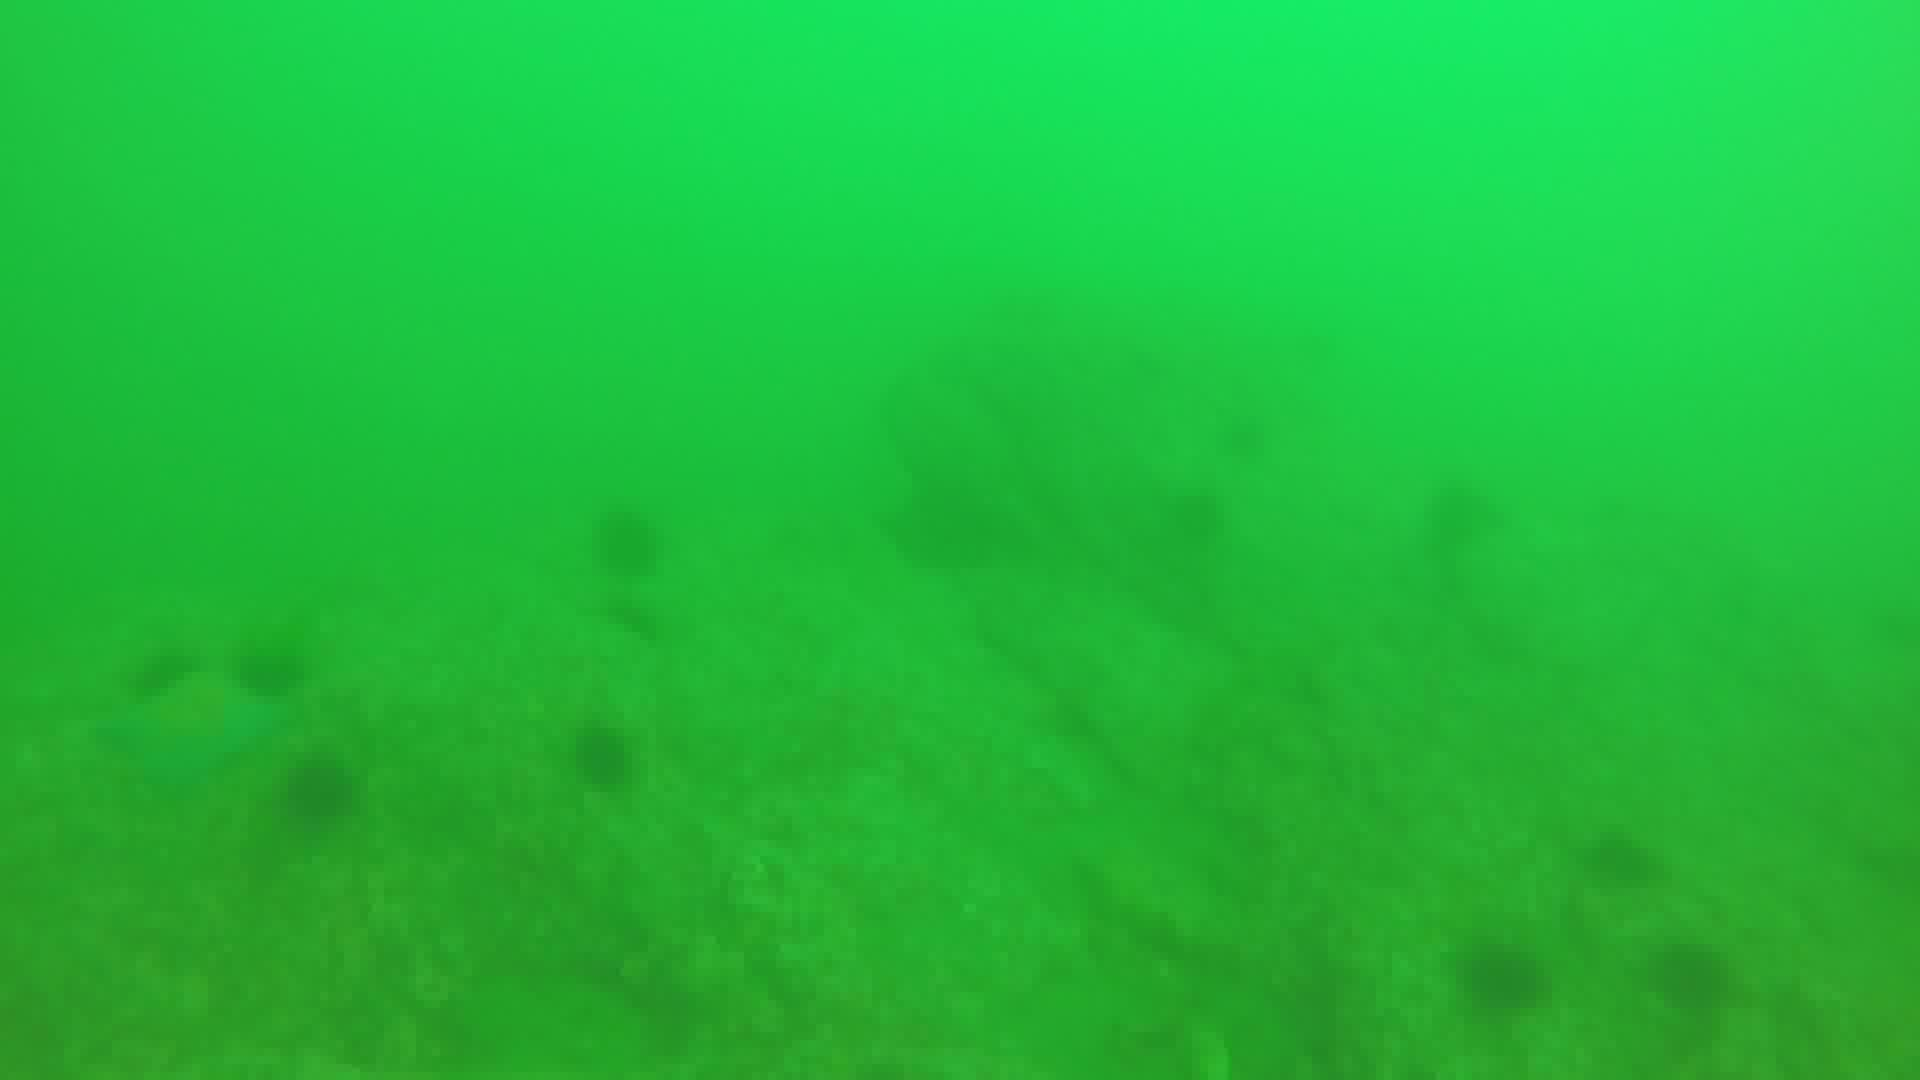echinus: (1465, 932, 1549, 1015), (291, 752, 364, 831), (1681, 940, 1741, 1017), (1604, 833, 1665, 894), (599, 508, 657, 571), (582, 735, 637, 793), (141, 647, 211, 692), (243, 647, 309, 694)
starfish: (105, 680, 269, 793)
